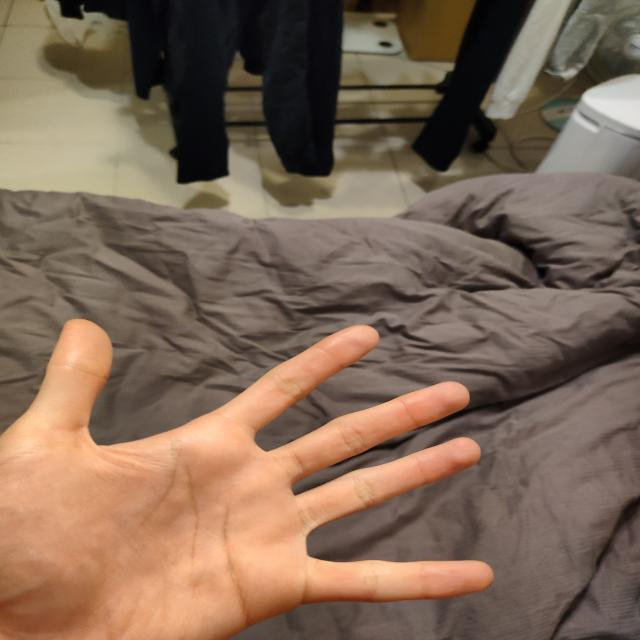Hand: (0, 307, 501, 640)
